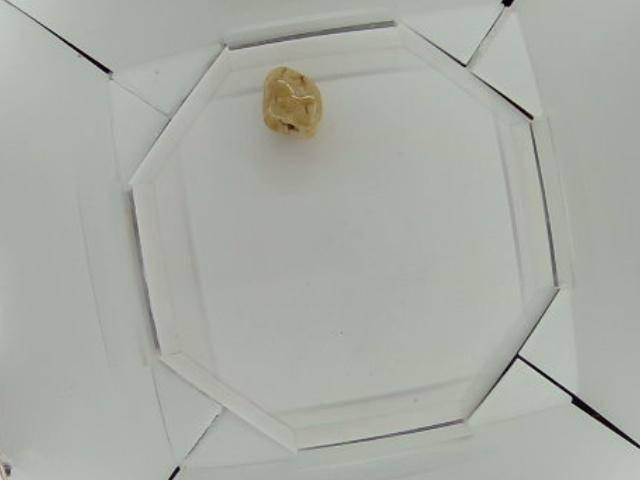Pebble: (262, 68, 322, 142)
